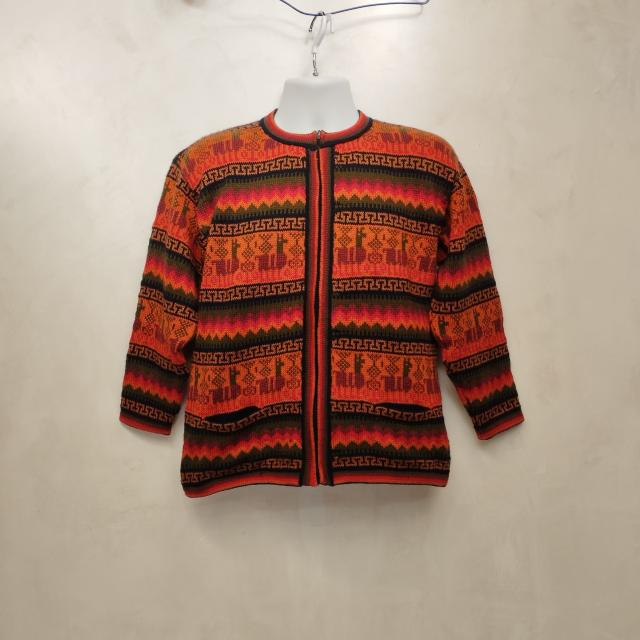Chompa: (118, 94, 524, 498)
